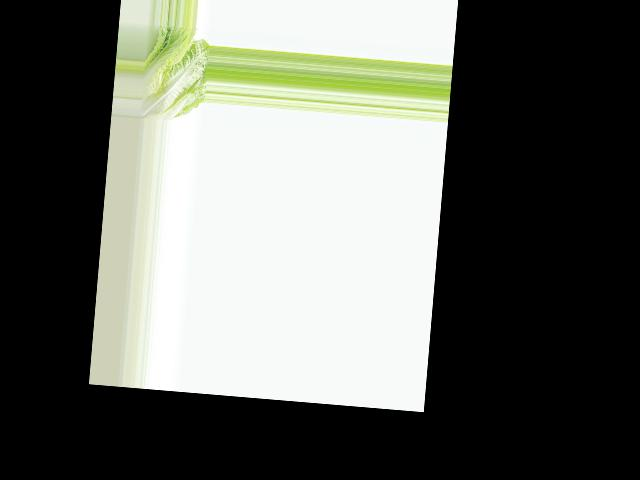lettuce: (140, 23, 210, 123)
